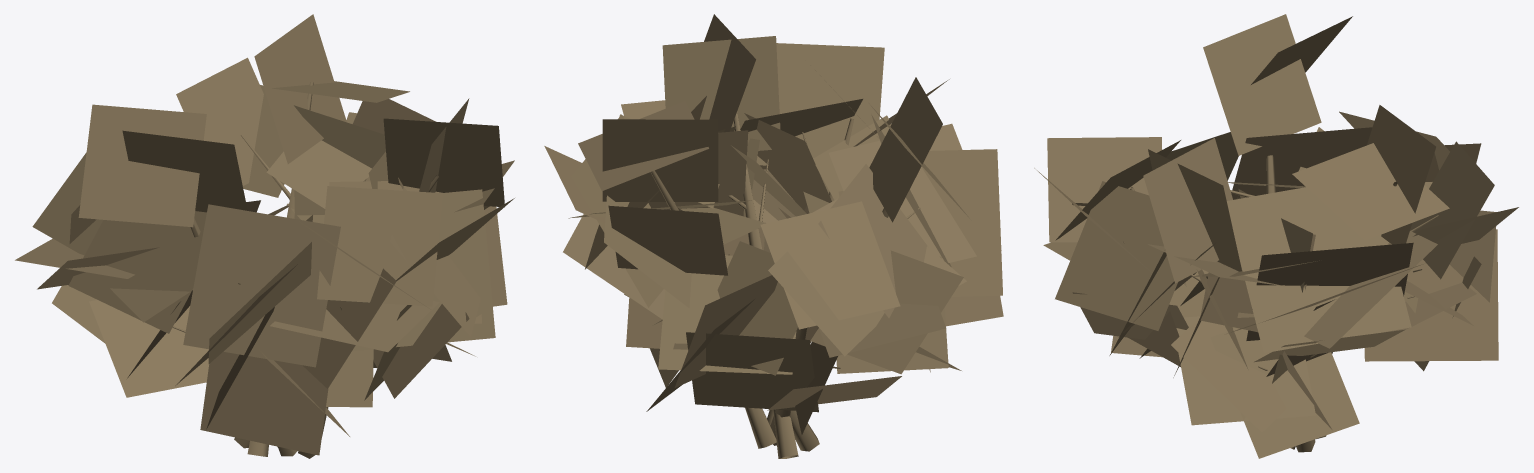
Rendered from bush-1-lod1.glb.
3 renders of one model, left to right at view 1: azimuth 30°, elevation 25°; view 2: azimuth 150°, elevation 25°; view 3: azimuth 270°, elevation 25°, orthographic.
Visible parts, largest first — view 1: bush-1-lod1-bush-foliage, bush-1-lod1-oak-bark; view 2: bush-1-lod1-bush-foliage, bush-1-lod1-oak-bark; view 3: bush-1-lod1-bush-foliage, bush-1-lod1-oak-bark.
Boxes of the visible parts, x1=… form: bush-1-lod1-bush-foliage: x1=15, y1=14, x2=514, y2=455; bush-1-lod1-oak-bark: x1=172, y1=82, x2=439, y2=458; bush-1-lod1-bush-foliage: x1=544, y1=14, x2=1003, y2=434; bush-1-lod1-oak-bark: x1=650, y1=112, x2=920, y2=458; bush-1-lod1-bush-foliage: x1=1034, y1=14, x2=1518, y2=458; bush-1-lod1-oak-bark: x1=1122, y1=155, x2=1438, y2=452.
Bounding box in the file's own units: 2.86 × 2.23 × 2.76.
